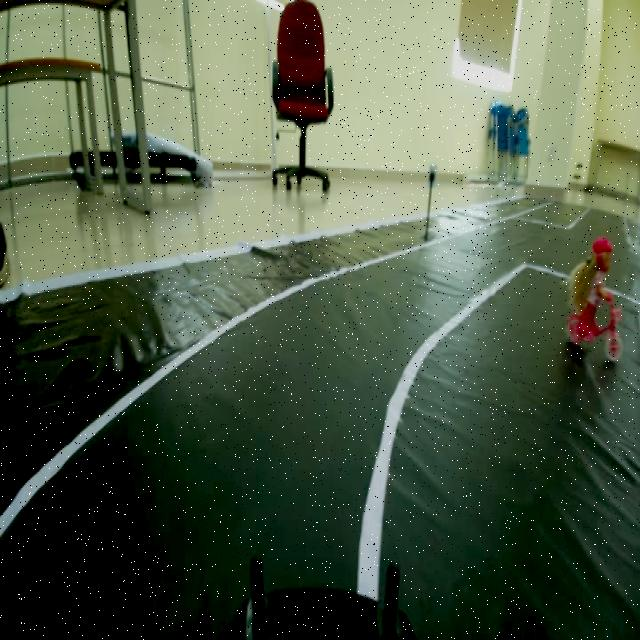pedestrian: (568, 230, 630, 372)
